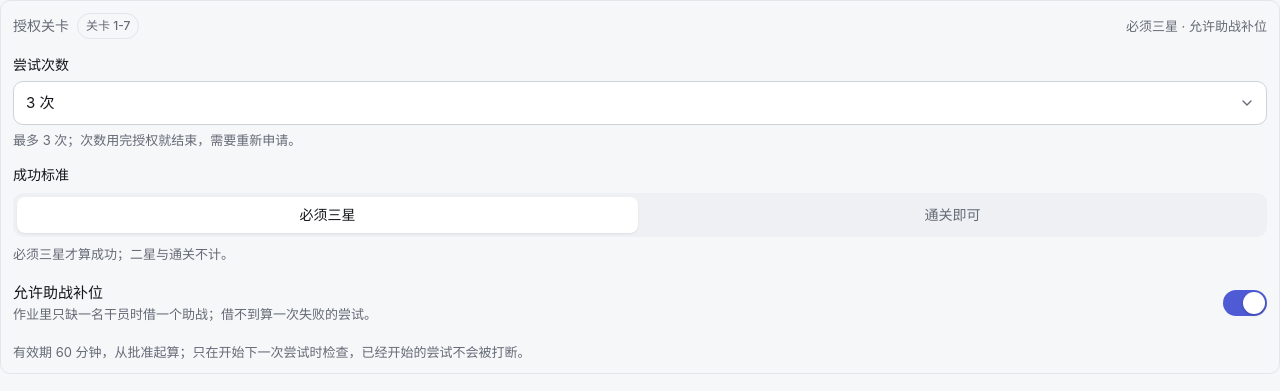
Test case: M29 作业授权卡片 › 成功标准在「必须三星」与「通关即可」之间切换
The width and height of the screenshot is (1280, 391).
Check: the text "必须三星才算成功；二星与通关不计。" is shown, box 13,246 -> 234,262
Click the radio button labelled "通关即可" at {"x": 952, "y": 215}, box 642,197 -> 1263,233
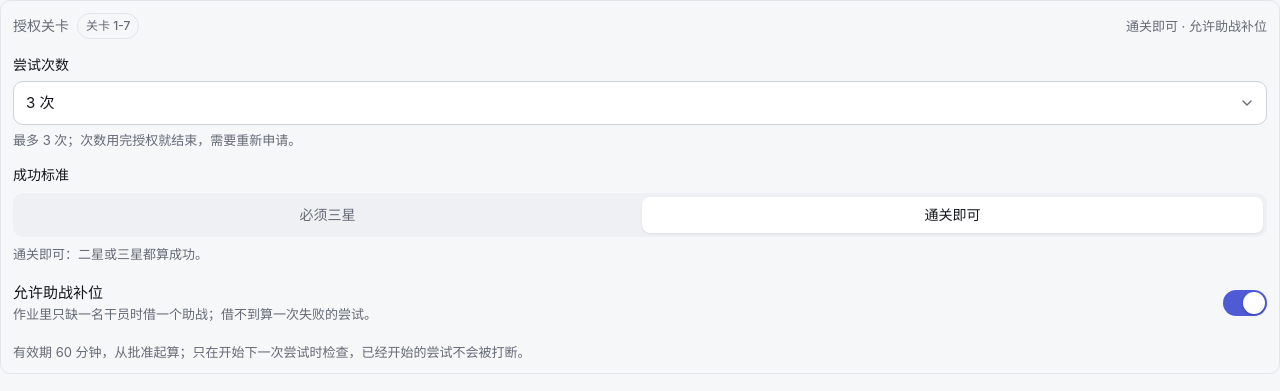
Check: the text "通关即可：二星或三星都算成功。" is shown, box 13,246 -> 208,262
